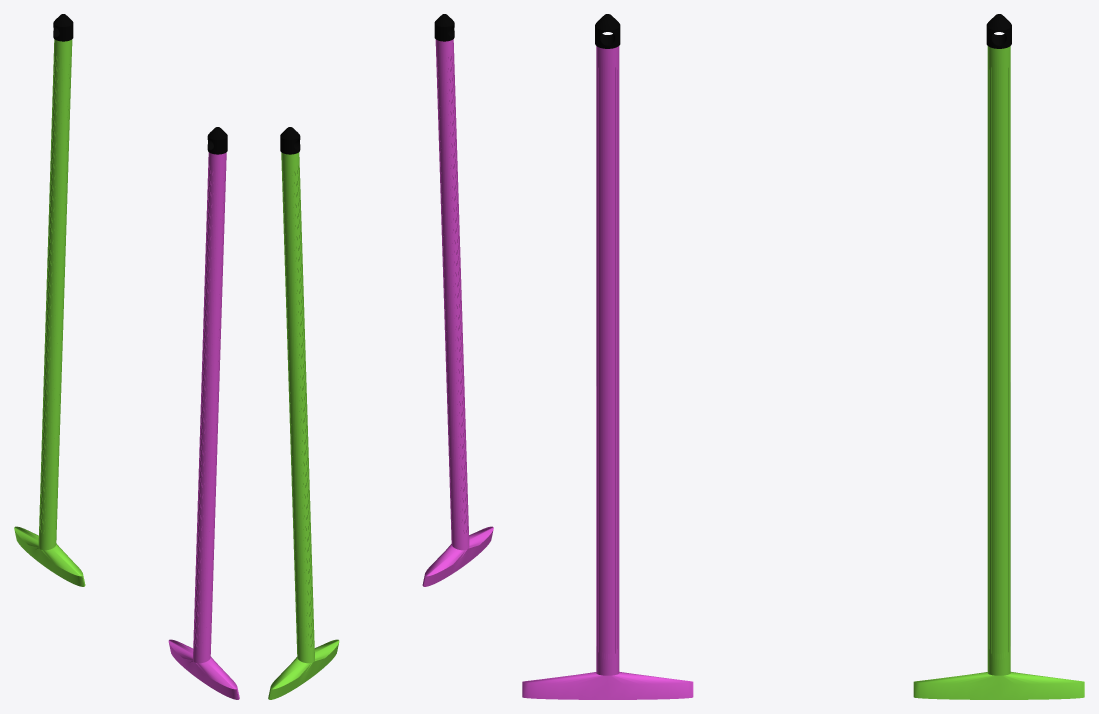
The model's file is bruUntitled.fbx.
3 views of the same model, side by side, from view 1: azimuth 30°, elevation 25°; view 2: azimuth 150°, elevation 25°; view 3: azimuth 270°, elevation 25° (orthographic). The views are drawn at different scales.
Parts seen in each view (by area): view 1: Cylinder.002, Cylinder.006, Cylinder.004, Cylinder, Cylinder.003, Cylinder.007; view 2: Cylinder.006, Cylinder.002, Cylinder, Cylinder.004, Cylinder.007, Cylinder.003; view 3: Cylinder.002, Cylinder.006, Cylinder.004, Cylinder.
Part boxes in pixels (x1,y1,x2,y2): Cylinder.002: [38, 39, 72, 550]; Cylinder.006: [193, 152, 226, 663]; Cylinder.004: [168, 639, 239, 699]; Cylinder: [14, 526, 85, 586]; Cylinder.003: [53, 14, 73, 41]; Cylinder.007: [207, 127, 227, 154]; Cylinder.006: [435, 39, 469, 550]; Cylinder.002: [281, 152, 314, 663]; Cylinder: [268, 639, 339, 699]; Cylinder.004: [422, 526, 493, 586]; Cylinder.007: [434, 14, 454, 41]; Cylinder.003: [280, 127, 300, 154]; Cylinder.002: [987, 46, 1010, 675]; Cylinder.006: [596, 46, 619, 675]; Cylinder.004: [522, 672, 693, 699]; Cylinder: [913, 672, 1084, 699].
Size of the model in its own units: 131 by 2112 by 1557.
